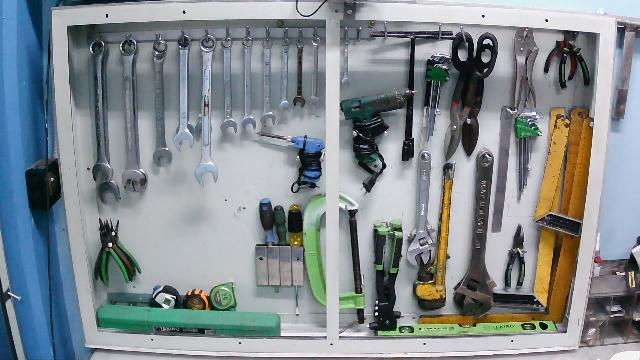kunci_inggris: (404, 148, 438, 270)
